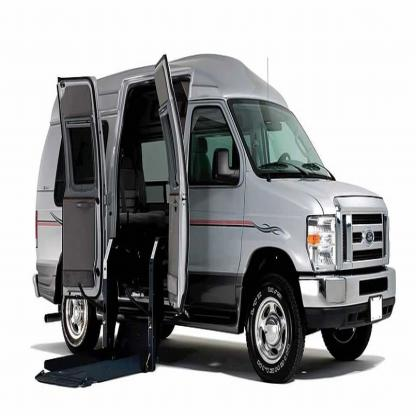Vehicle: (34, 54, 398, 385)
